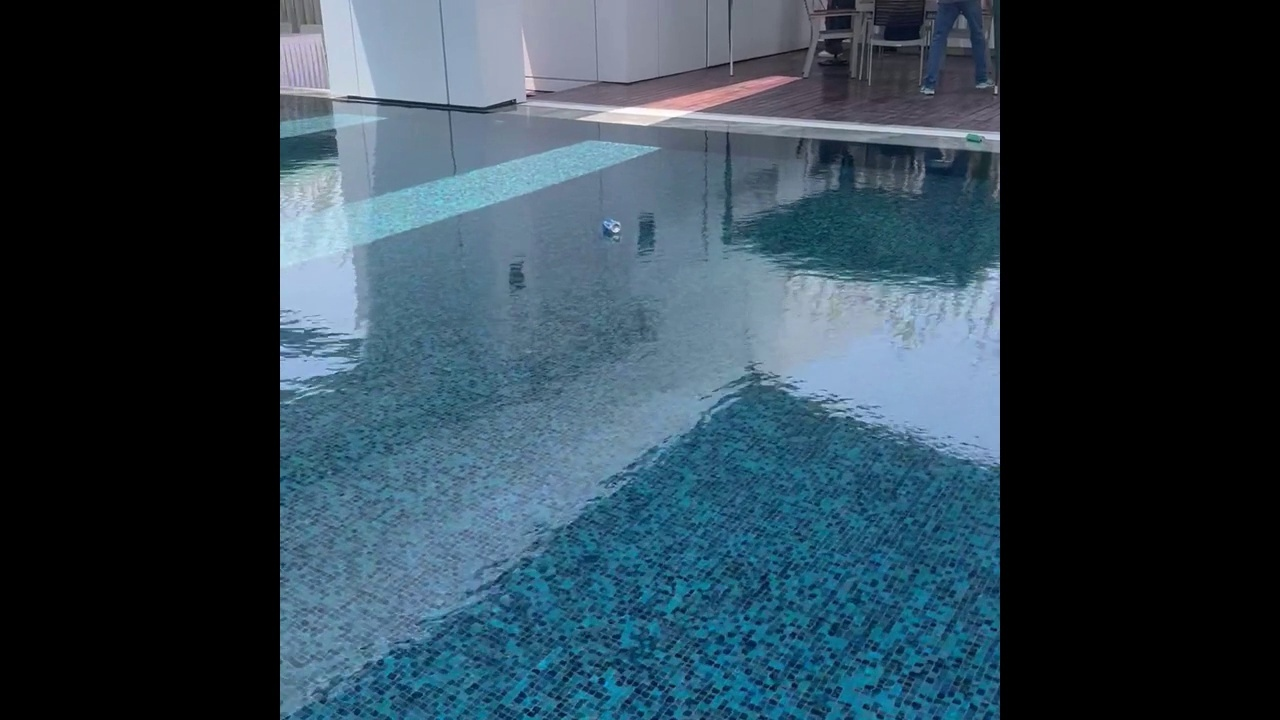debris: (602, 215, 623, 237), (962, 130, 986, 146)
